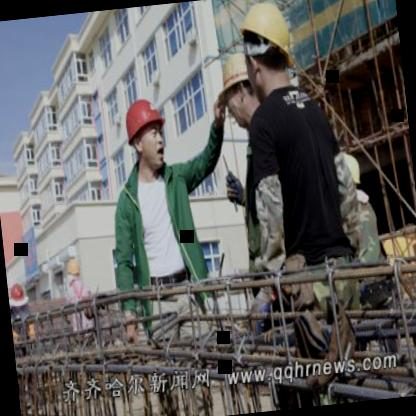helmet: (235, 0, 304, 111), (121, 97, 171, 178), (328, 146, 367, 202), (7, 279, 29, 313), (64, 254, 84, 284)
